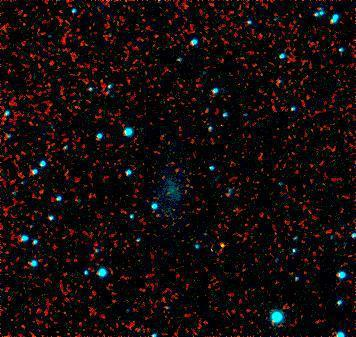star: (209, 228, 239, 258)
